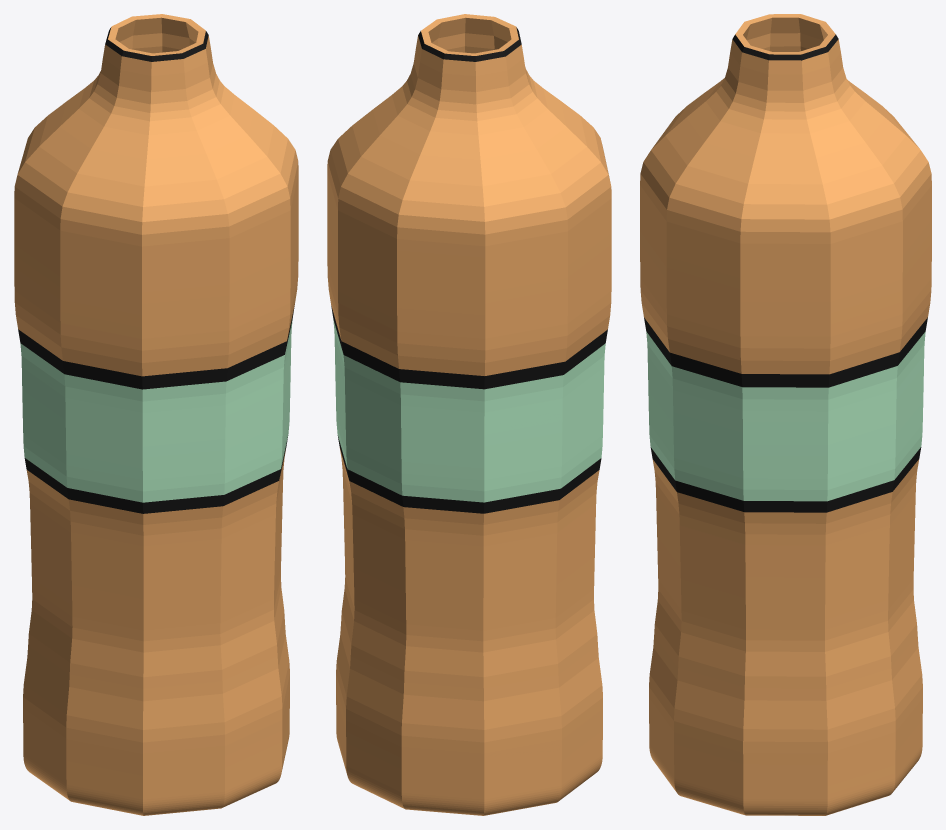
Rendered from bottle_5.gltf.
The picture shows the model from 3 angles, left to right: view 1: azimuth 30°, elevation 25°; view 2: azimuth 150°, elevation 25°; view 3: azimuth 270°, elevation 25°; orthographic projection.
Visible parts, largest first — view 1: bottle; view 2: bottle; view 3: bottle.
Part boxes in pixels (x1=…): bottle: x1=14, y1=14, x2=298, y2=815; bottle: x1=327, y1=14, x2=611, y2=815; bottle: x1=640, y1=14, x2=931, y2=815.
Bounding box in the file's own units: 1.58 × 4.56 × 1.65.
